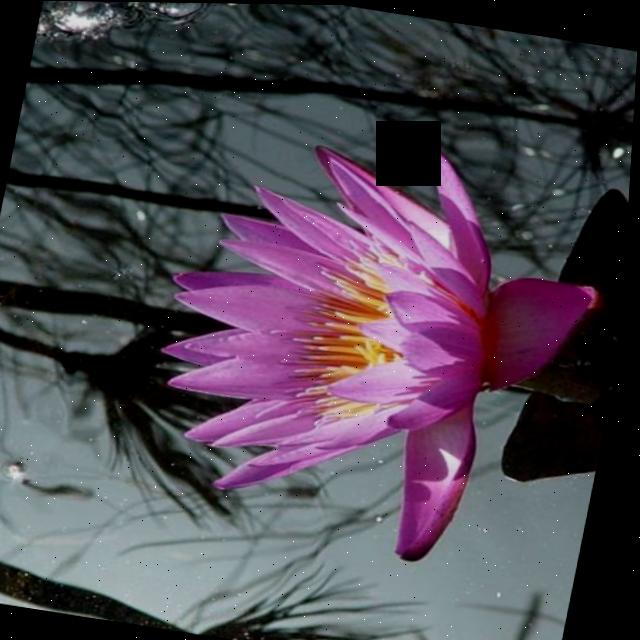rose: (0, 76, 636, 640)
